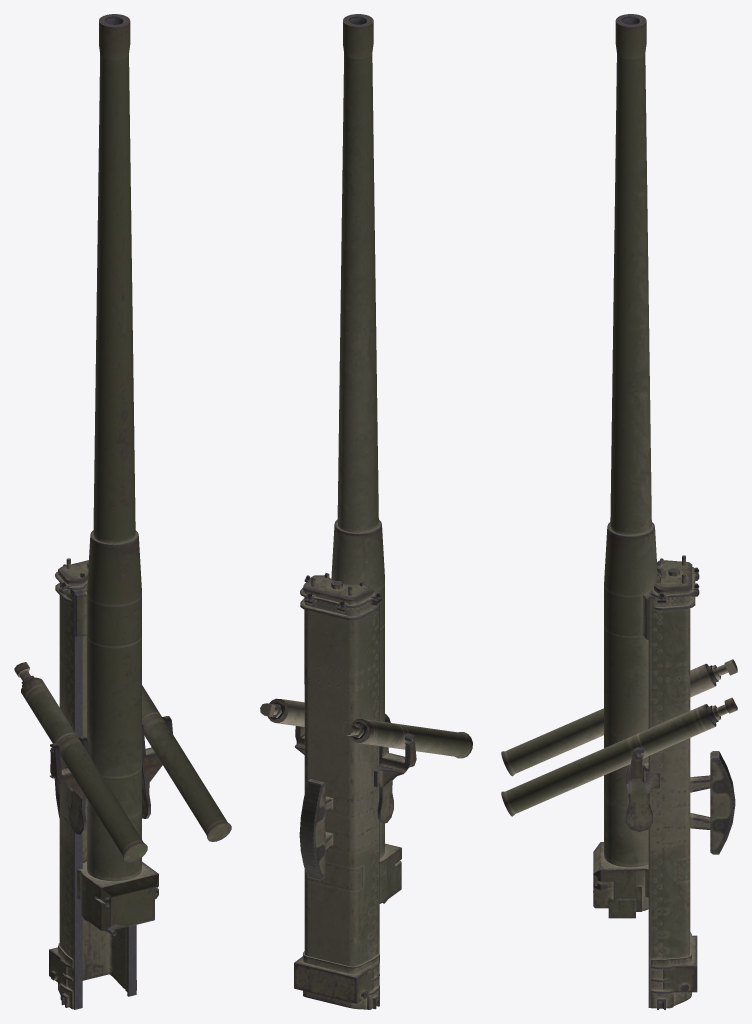
Rendered from Gun_01.glb.
3 renders of one model, left to right at view 1: azimuth 30°, elevation 25°; view 2: azimuth 150°, elevation 25°; view 3: azimuth 270°, elevation 25°, orthographic. The views are drawn at different scales.
Parts seen in each view (by area): view 1: set_0_group_0; view 2: set_0_group_0; view 3: set_0_group_0.
Part boxes in pixels (left/top/right/bottom): set_0_group_0: left=14, top=14, right=231, bottom=1009; set_0_group_0: left=260, top=14, right=472, bottom=1009; set_0_group_0: left=501, top=14, right=737, bottom=1009.
Bounding box in the file's own units: 0.9026 × 7.21 × 1.59.
1 material, 1 textured.
